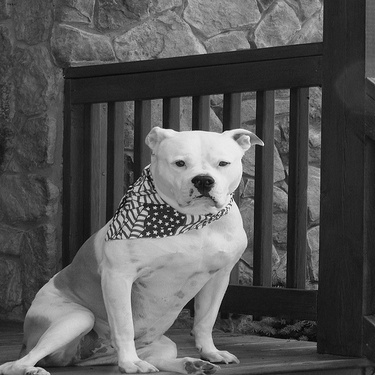dog: (5, 121, 270, 371)
